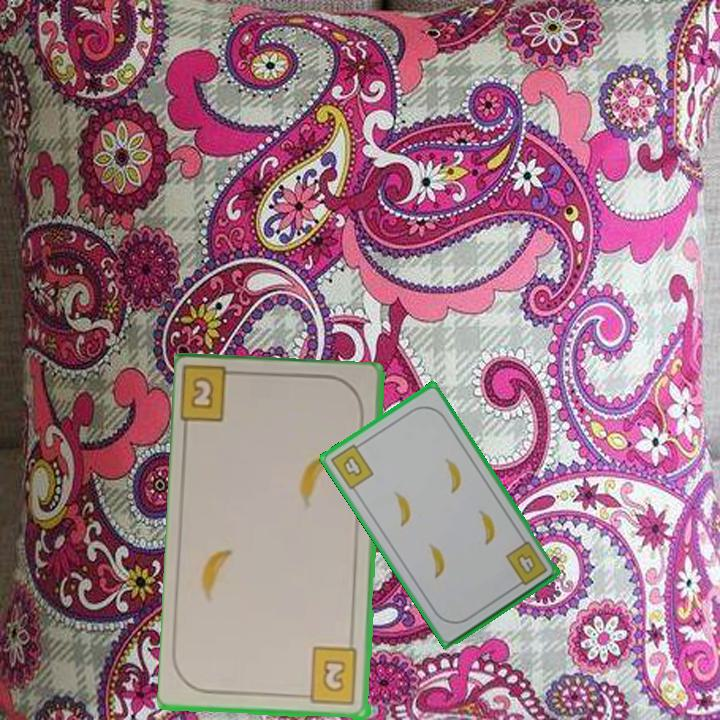2b: (179, 366, 247, 427), (297, 645, 361, 708)
4b: (327, 438, 377, 492), (502, 538, 551, 591)
